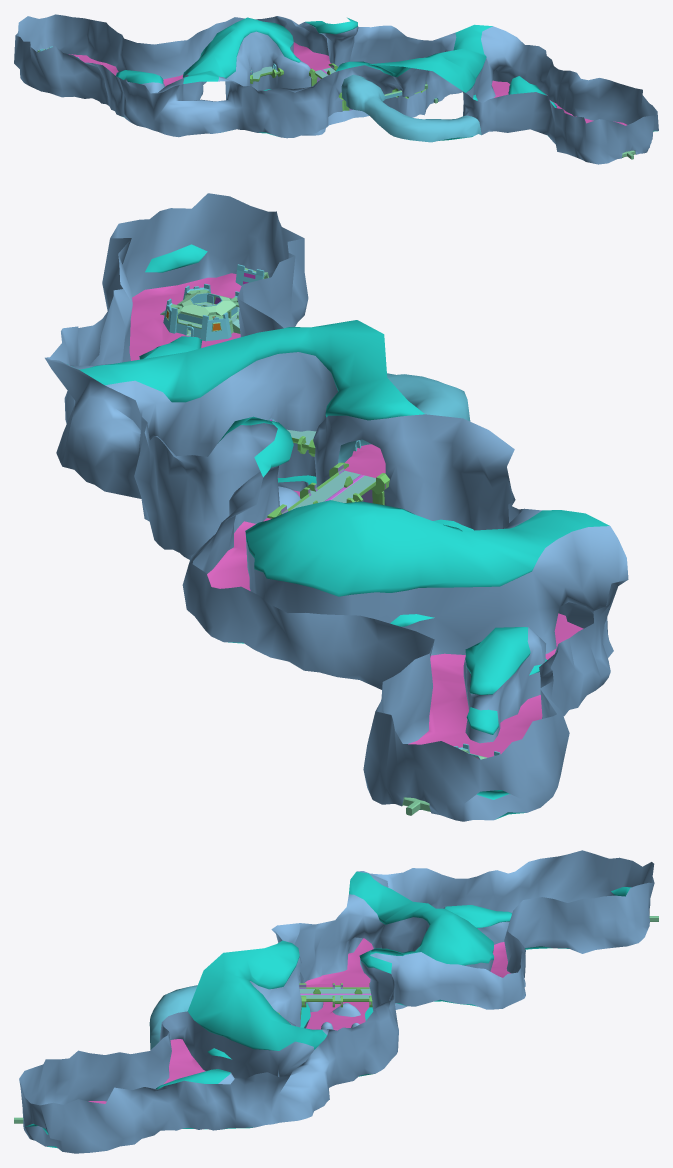
File: icefieldsprops.fbx
3 renders of one model, top to bottom at view 1: azimuth 30°, elevation 25°; view 2: azimuth 150°, elevation 25°; view 3: azimuth 270°, elevation 25°, orthographic. The views are drawn at different scales.
Parts seen in each view (by area): view 1: cluster_3, cluster_2, cluster_11, cluster_overlay, cluster_7, cluster_6; view 2: cluster_3, cluster_2, cluster_overlay, cluster_11, cluster_9, cluster_6, cluster_7, cluster_5; view 3: cluster_3, cluster_2, cluster_overlay, cluster_11, cluster_7, cluster_6.
Boxes of the visible parts, x1,y1,x2,y2 form: cluster_3: (14, 14, 658, 164); cluster_2: (116, 17, 657, 140); cluster_11: (341, 74, 481, 142); cluster_overlay: (69, 42, 626, 125); cluster_7: (250, 63, 426, 110); cluster_6: (252, 66, 335, 78); cluster_3: (45, 193, 628, 821); cluster_2: (67, 244, 609, 819); cluster_overlay: (129, 273, 583, 757); cluster_11: (338, 373, 470, 463); cluster_9: (163, 264, 500, 809); cluster_6: (160, 303, 375, 510); cluster_7: (267, 436, 389, 518); cluster_5: (160, 267, 477, 815); cluster_3: (19, 850, 654, 1153); cluster_2: (25, 871, 631, 1148); cluster_overlay: (88, 938, 510, 1103); cluster_11: (149, 985, 197, 1049); cluster_7: (277, 983, 372, 1019); cluster_6: (299, 987, 371, 1000).
Size of what is drawn, in the model's own units: 1291484 by 218673 by 1388259.
